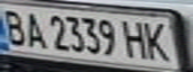2: (42, 11, 66, 52)
3: (78, 15, 100, 55), (63, 14, 84, 54)
9: (96, 16, 121, 57)
A: (18, 9, 48, 48)
B: (0, 6, 30, 46)
H: (121, 18, 151, 60)
K: (139, 18, 175, 62)
